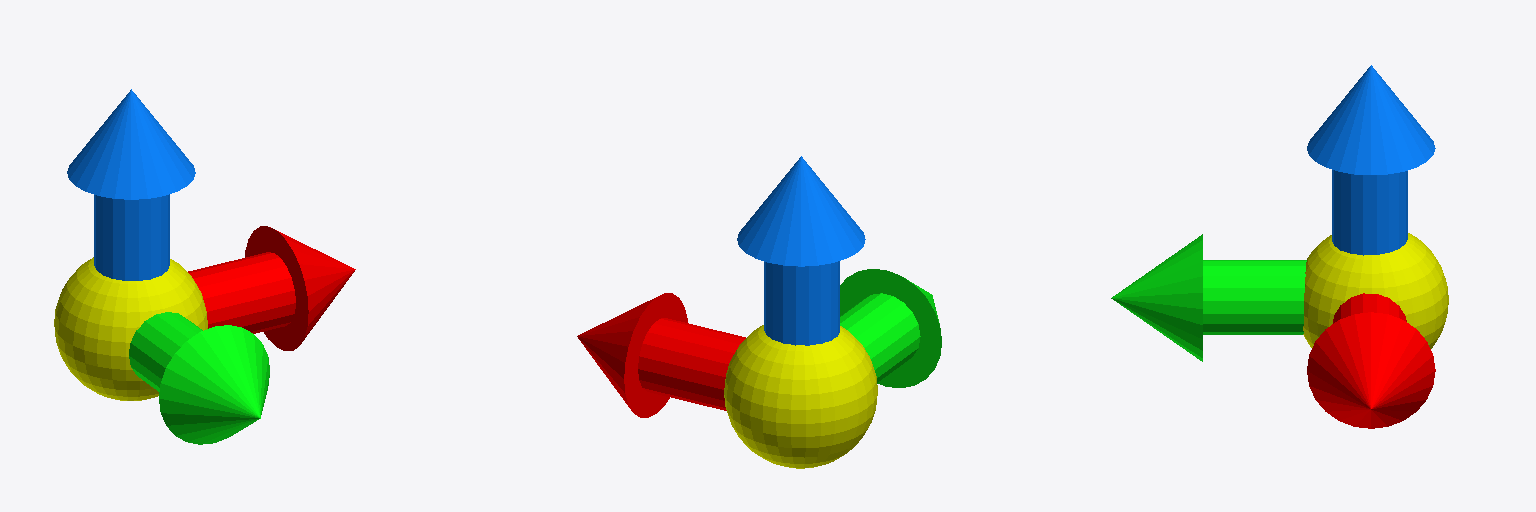
3 views of the same model, side by side, from view 1: azimuth 30°, elevation 25°; view 2: azimuth 150°, elevation 25°; view 3: azimuth 270°, elevation 25° (orthographic).
Parts seen in each view (by area): view 1: Sphere001, Cone003, Cone001, Cylinder002, Cylinder001, Cone002, Cylinder003; view 2: Sphere001, Cone001, Cylinder002, Cylinder001, Cone002, Cone003, Cylinder003; view 3: Cone002, Sphere001, Cone001, Cylinder003, Cylinder001, Cone003, Cylinder002.
Boxes of the visible parts, x1,y1,x2,y2 form: Sphere001: [54, 257, 207, 400]; Cone003: [159, 325, 269, 444]; Cone001: [67, 89, 195, 199]; Cylinder002: [188, 252, 295, 333]; Cylinder001: [94, 194, 169, 280]; Cone002: [245, 226, 355, 350]; Cylinder003: [129, 312, 202, 391]; Sphere001: [724, 325, 877, 468]; Cone001: [737, 156, 865, 266]; Cylinder002: [638, 318, 745, 410]; Cylinder001: [764, 261, 839, 345]; Cone002: [577, 293, 687, 417]; Cone003: [840, 269, 941, 387]; Cylinder003: [840, 293, 920, 382]; Cone002: [1307, 312, 1435, 428]; Sphere001: [1303, 233, 1448, 348]; Cone001: [1307, 65, 1435, 174]; Cylinder003: [1203, 260, 1306, 334]; Cylinder001: [1332, 170, 1407, 255]; Cone003: [1111, 234, 1202, 361]; Cylinder002: [1333, 293, 1406, 323].
Size of the model in its own units: 25.52 by 25.54 by 25.63.
4 materials, 3 textured.